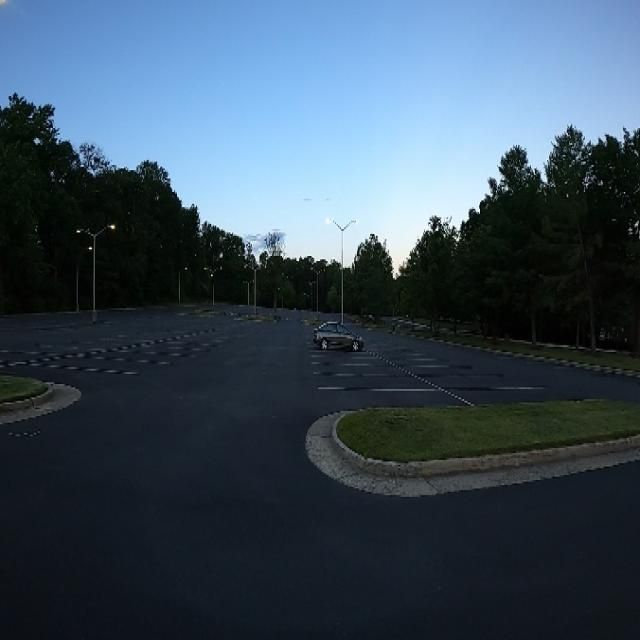cars: (311, 310, 367, 362)
